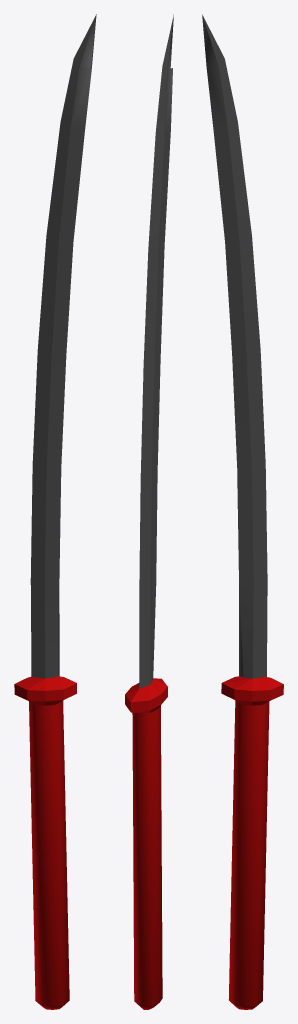
File: Sword_katana_mesh.fbx
The picture shows the model from 3 angles, left to right: view 1: azimuth 90°, elevation 25°; view 2: azimuth 150°, elevation 25°; view 3: azimuth 270°, elevation 25°; orthographic projection.
Visible parts, largest first — view 1: Katana_mesh; view 2: Katana_mesh; view 3: Katana_mesh.
Boxes of the visible parts, x1,y1,x2,y2 form: Katana_mesh: (14,14,96,1009); Katana_mesh: (125,14,173,1009); Katana_mesh: (202,14,283,1009).
Bounding box in the file's own units: 5 × 11.72 × 157.
